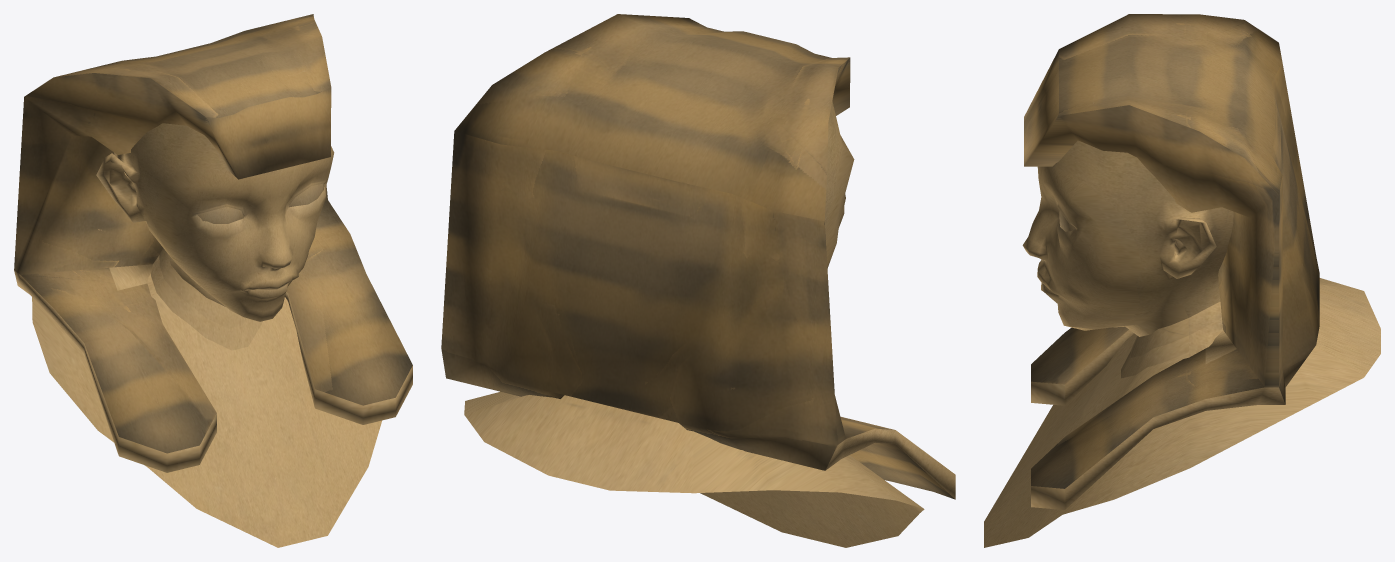
Rendered from Statue_Pharaoh_Head.fbx.
The picture shows the model from 3 angles, left to right: view 1: azimuth 30°, elevation 25°; view 2: azimuth 150°, elevation 25°; view 3: azimuth 270°, elevation 25°; orthographic projection. The views are drawn at different scales.
Visible parts, largest first — view 1: mesh; view 2: mesh; view 3: mesh.
Part boxes in pixels (x1,y1,x2,y2): mesh: (14, 14, 412, 547); mesh: (441, 14, 955, 547); mesh: (984, 14, 1380, 547).
Bounding box in the file's own units: 2.49 × 3.27 × 2.47.
